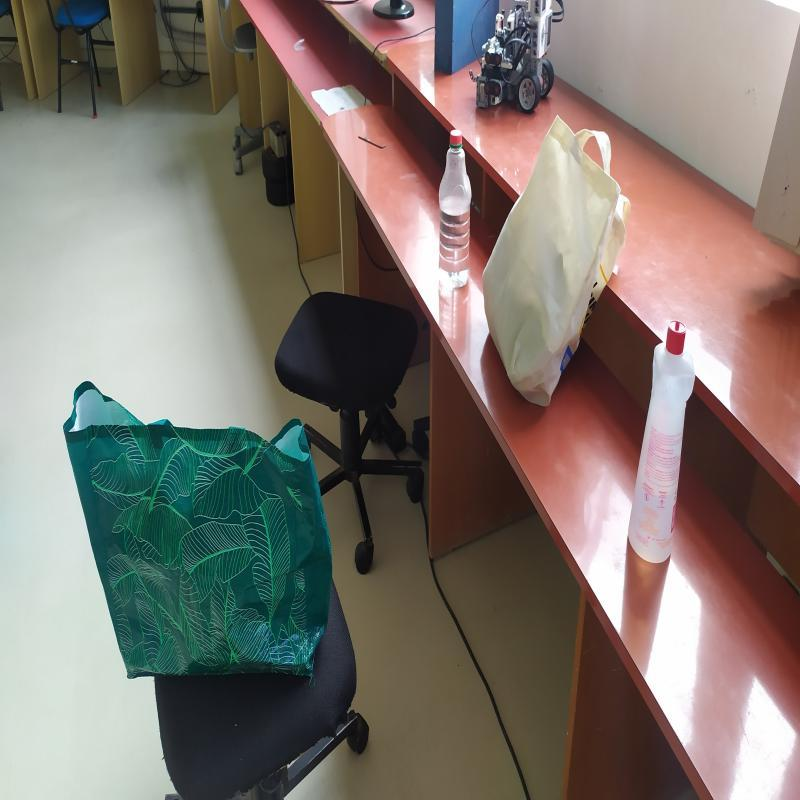Bag: (63, 394, 334, 678), (484, 118, 630, 407)
